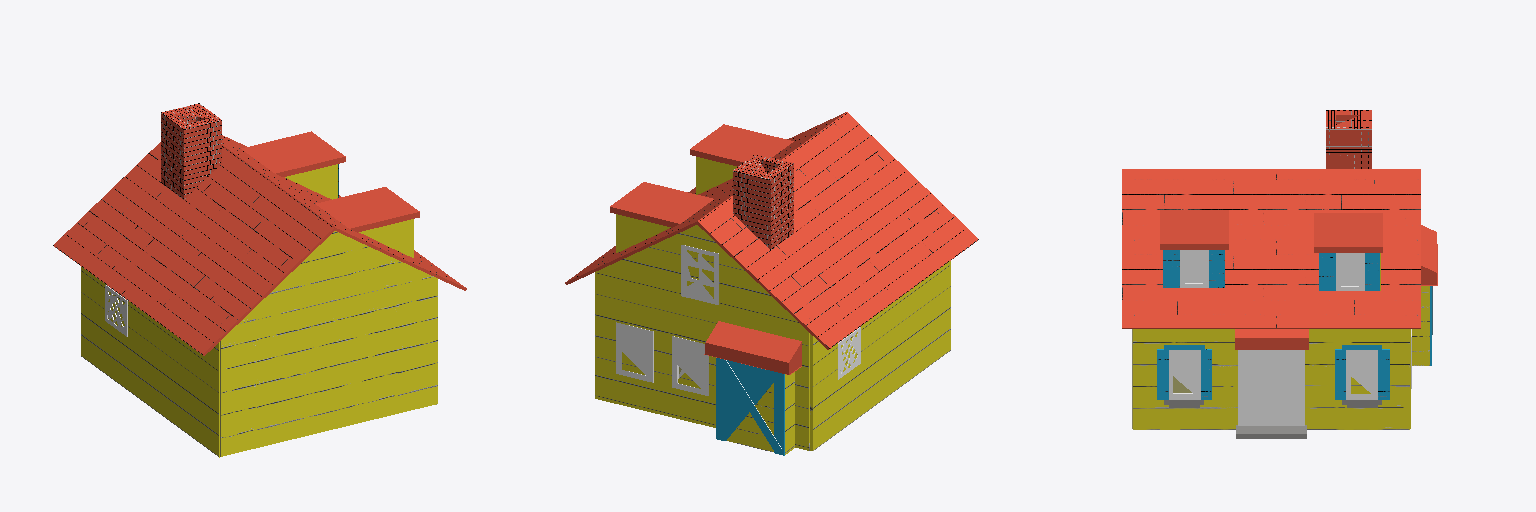
3 renders of one model, left to right at view 1: azimuth 30°, elevation 25°; view 2: azimuth 150°, elevation 25°; view 3: azimuth 270°, elevation 25°, orthographic.
Parts seen in each view (by area): view 1: polySurface1215; view 2: polySurface1215; view 3: polySurface1215.
Part boxes in pixels (left/top/right/bottom): polySurface1215: left=53, top=103, right=466, bottom=457; polySurface1215: left=565, top=112, right=978, bottom=455; polySurface1215: left=1122, top=110, right=1437, bottom=438.
Bounding box in the file's own units: 24.44 × 21.45 × 25.21.
71 materials, 18 textured.